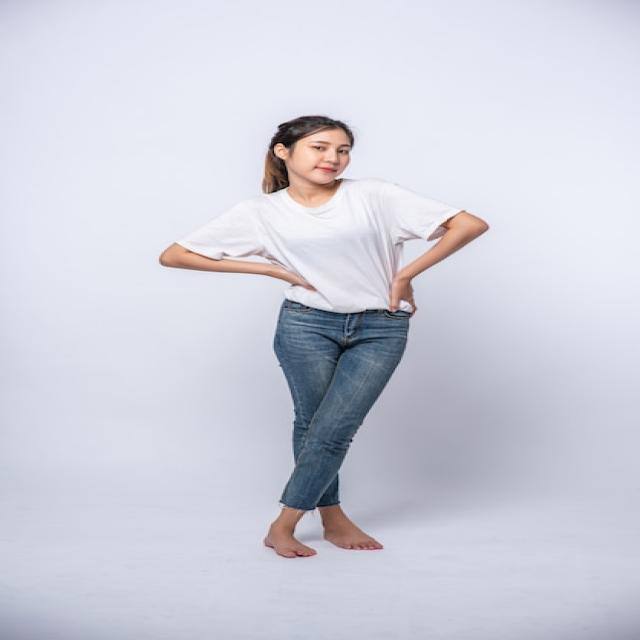Person: (159, 116, 489, 558)
